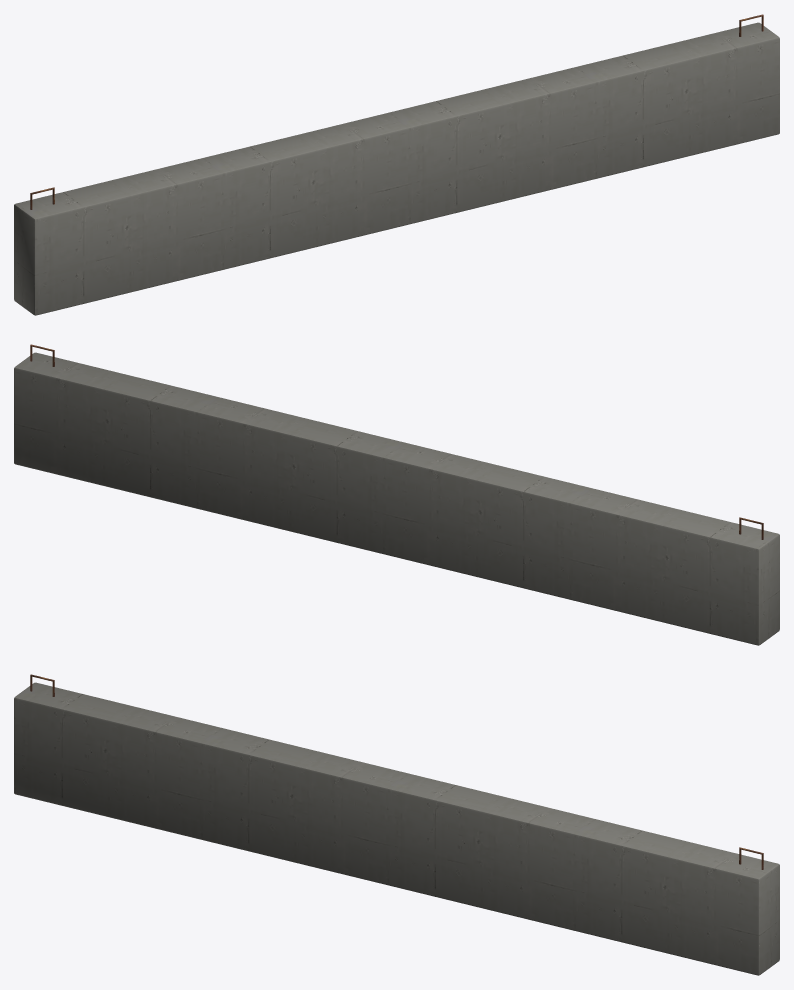
Rendered from EST-PRE-002_lod1.glb.
The picture shows the model from 3 angles, top to bottom: view 1: azimuth 30°, elevation 25°; view 2: azimuth 150°, elevation 25°; view 3: azimuth 330°, elevation 25°; orthographic projection.
Parts seen in each view (by area): view 1: EST-PRE-002_viga; view 2: EST-PRE-002_viga; view 3: EST-PRE-002_viga.
Boxes of the visible parts, left/top/right/bottom form: EST-PRE-002_viga: left=14, top=22, right=779, bottom=315; EST-PRE-002_viga: left=14, top=352, right=779, bottom=645; EST-PRE-002_viga: left=14, top=682, right=779, bottom=975.
Size of the model in its own units: 4 by 0.5842 by 0.2.
Materials: 2 (2 with a texture image).
